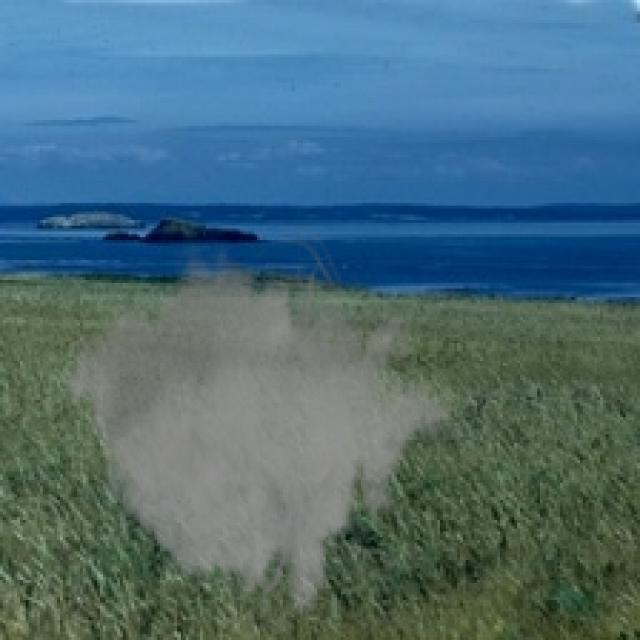smoke: (63, 217, 454, 632)
